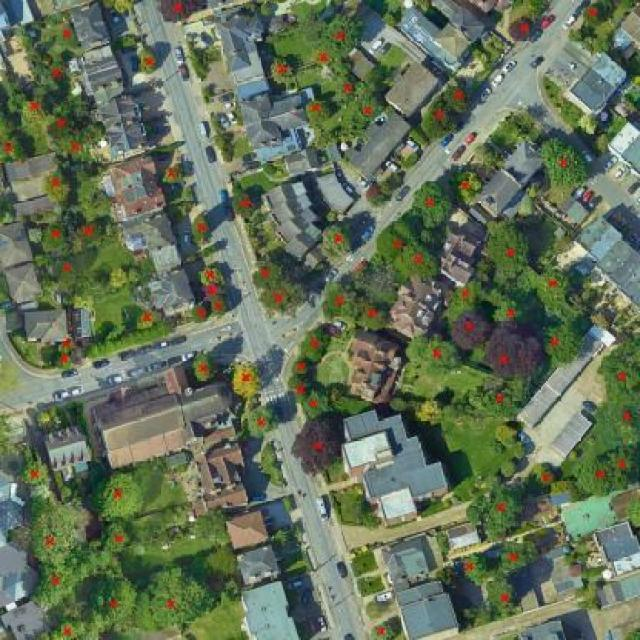tree: (33, 543, 118, 609), (130, 570, 219, 628), (21, 492, 77, 565), (485, 322, 546, 378), (292, 415, 343, 478), (597, 323, 640, 397), (537, 138, 589, 189), (93, 472, 149, 519), (471, 485, 518, 539), (490, 221, 528, 284), (407, 334, 464, 375), (600, 391, 640, 445), (316, 13, 364, 56), (9, 80, 51, 129), (543, 320, 585, 369), (45, 92, 92, 135), (59, 123, 108, 163), (477, 382, 526, 421), (256, 278, 307, 315), (321, 282, 367, 323), (92, 578, 134, 622), (598, 444, 640, 488), (377, 218, 418, 261), (41, 15, 85, 55), (573, 456, 613, 499), (78, 175, 114, 221), (414, 182, 449, 226), (418, 102, 460, 138), (400, 245, 440, 282), (497, 538, 537, 575), (34, 618, 98, 640), (536, 268, 572, 307), (452, 314, 493, 348), (485, 577, 519, 617), (449, 168, 485, 203), (37, 53, 71, 90), (321, 222, 353, 261), (0, 117, 29, 160), (355, 83, 383, 126), (71, 277, 109, 308), (232, 366, 266, 399), (154, 0, 198, 25), (302, 383, 330, 422), (461, 553, 493, 587), (452, 280, 481, 317), (241, 409, 282, 435), (72, 212, 103, 246), (359, 299, 393, 330), (497, 113, 532, 142), (42, 166, 70, 202), (250, 259, 287, 286), (493, 298, 529, 325), (104, 520, 133, 552), (303, 328, 331, 361), (334, 69, 358, 106), (446, 82, 474, 113), (307, 100, 336, 129), (231, 189, 258, 220), (20, 459, 48, 486), (507, 16, 536, 42), (191, 351, 214, 383), (43, 219, 69, 247), (366, 182, 394, 208), (52, 255, 77, 284), (270, 55, 295, 83), (529, 463, 555, 489), (288, 370, 309, 401), (214, 134, 234, 166), (582, 3, 606, 26), (199, 266, 226, 286), (367, 621, 395, 640), (106, 266, 129, 289), (311, 48, 337, 68), (193, 213, 212, 239), (137, 48, 155, 74), (139, 253, 159, 276), (136, 308, 156, 331), (162, 165, 184, 185), (289, 358, 311, 377), (209, 296, 229, 316), (190, 301, 208, 322), (56, 354, 76, 372), (202, 284, 226, 299), (58, 336, 74, 353), (258, 2, 275, 18), (125, 265, 139, 284)
